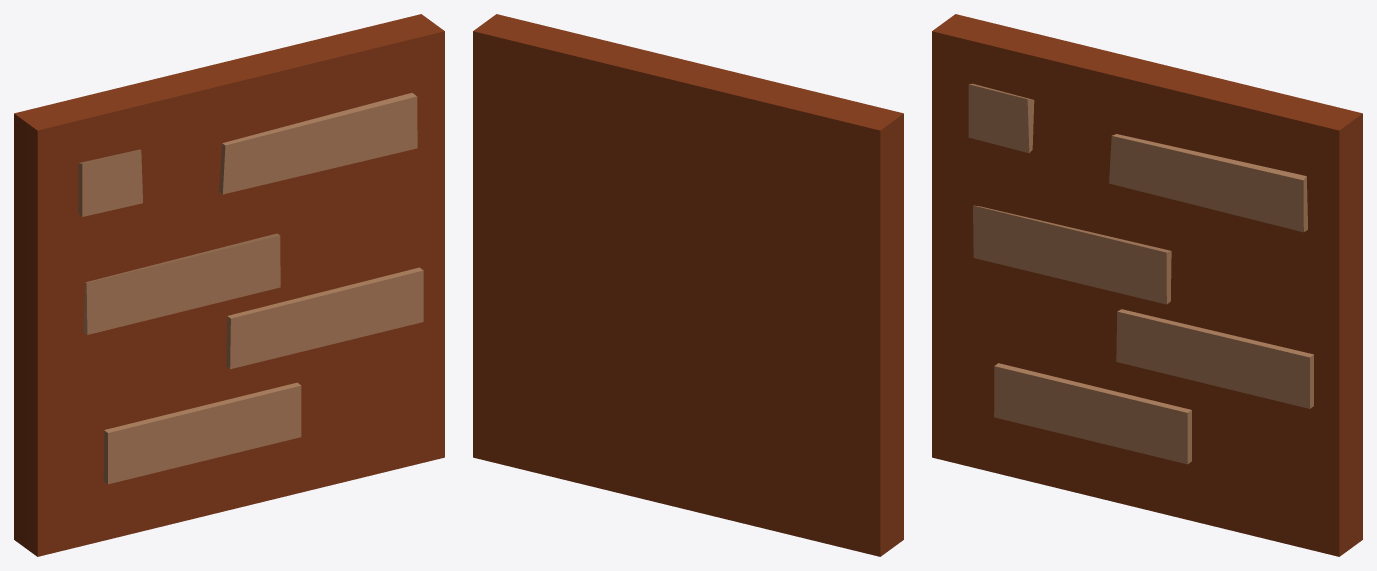
Rendered from BrickV2HalfWallSmall.fbx.
3 renders of one model, left to right at view 1: azimuth 30°, elevation 25°; view 2: azimuth 150°, elevation 25°; view 3: azimuth 330°, elevation 25°, orthographic.
Parts seen in each view (by area): view 1: BrickV2HalfWallSmall; view 2: BrickV2HalfWallSmall; view 3: BrickV2HalfWallSmall.
Part boxes in pixels (bbox=[...]): BrickV2HalfWallSmall: bbox=[14, 14, 444, 556]; BrickV2HalfWallSmall: bbox=[473, 14, 903, 556]; BrickV2HalfWallSmall: bbox=[932, 14, 1362, 556].
Bounding box in the file's own units: 100 × 100 × 11.75.
